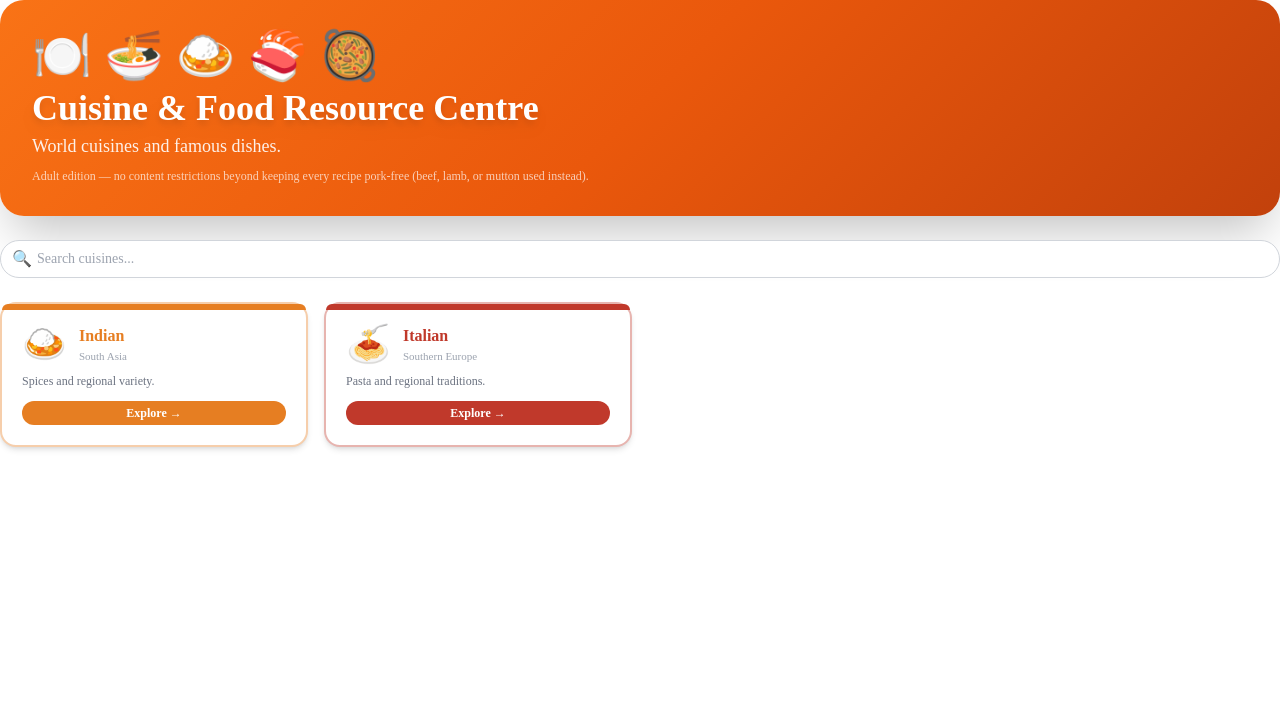
Test case: CuisineCentre › lets the quiz be answered and scored
Click the text "Indian" at (102, 336), box [79, 327, 124, 344]
(page scrolled)
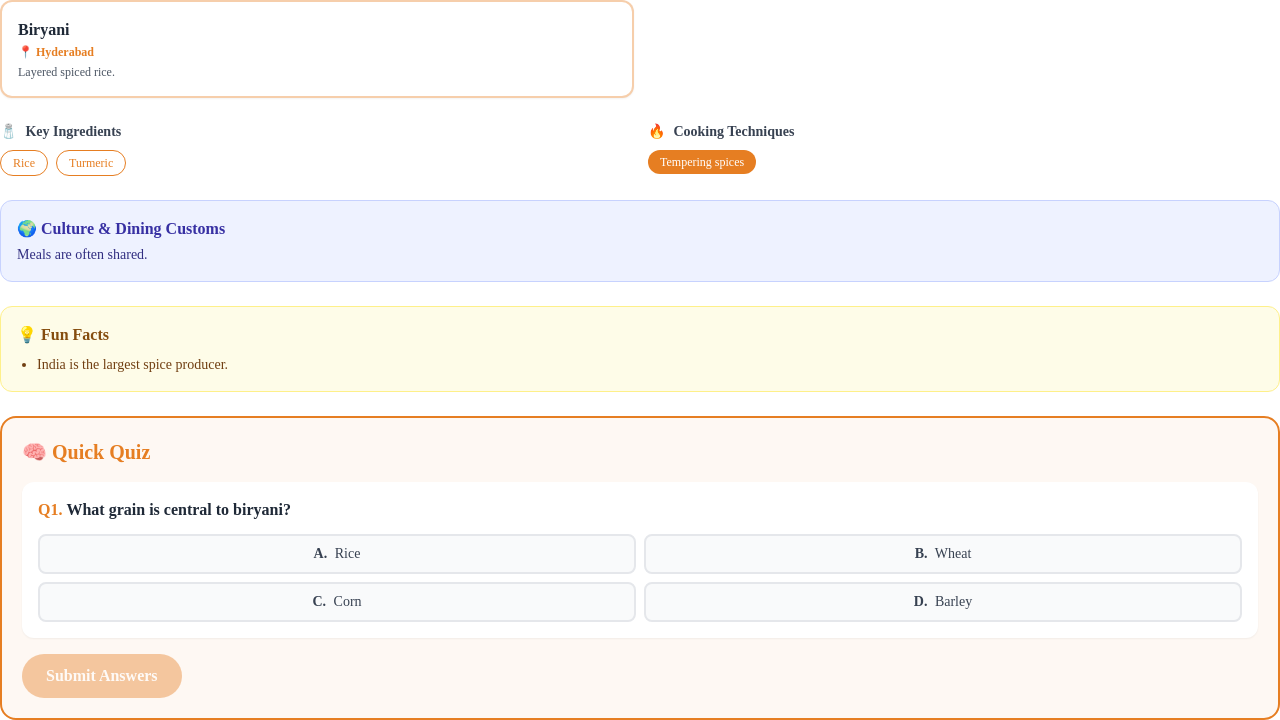
Expected: the text "Biryani" is shown, [18, 21, 70, 38]
Click the button "A. Rice" at (337, 554), box [38, 534, 636, 574]
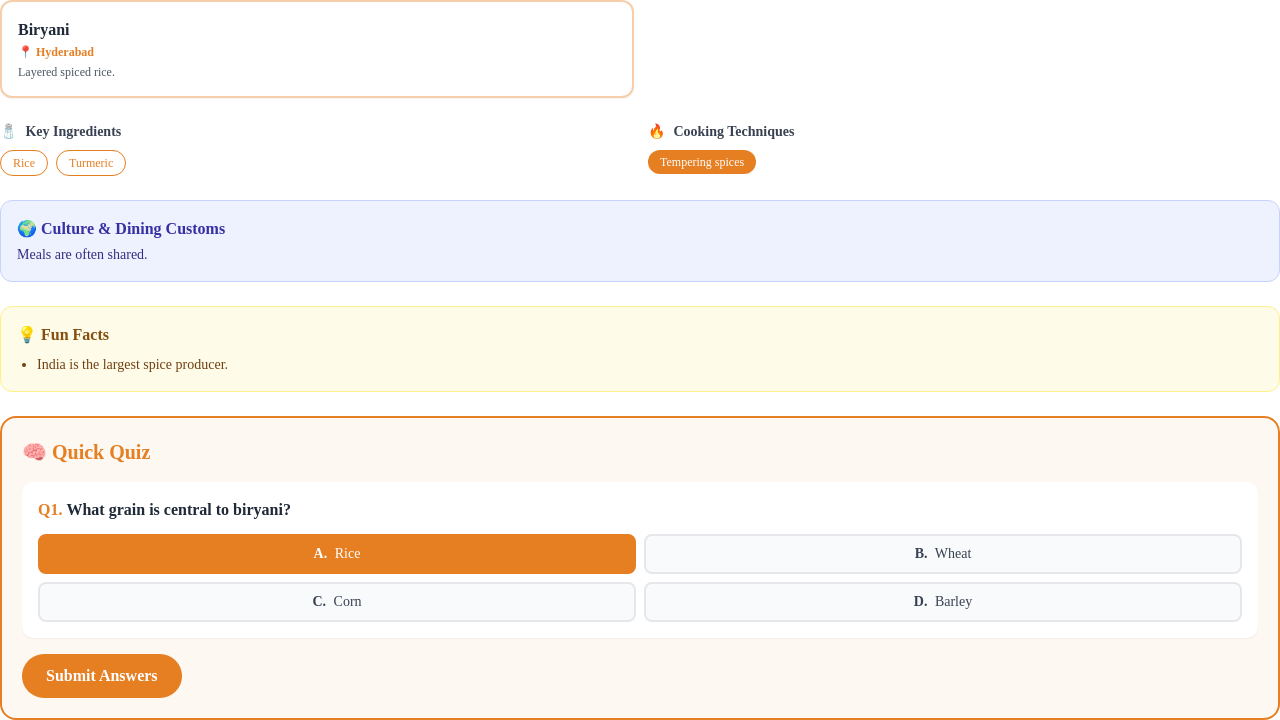
Click the button "Submit Answers" at (102, 676), box [22, 654, 182, 698]
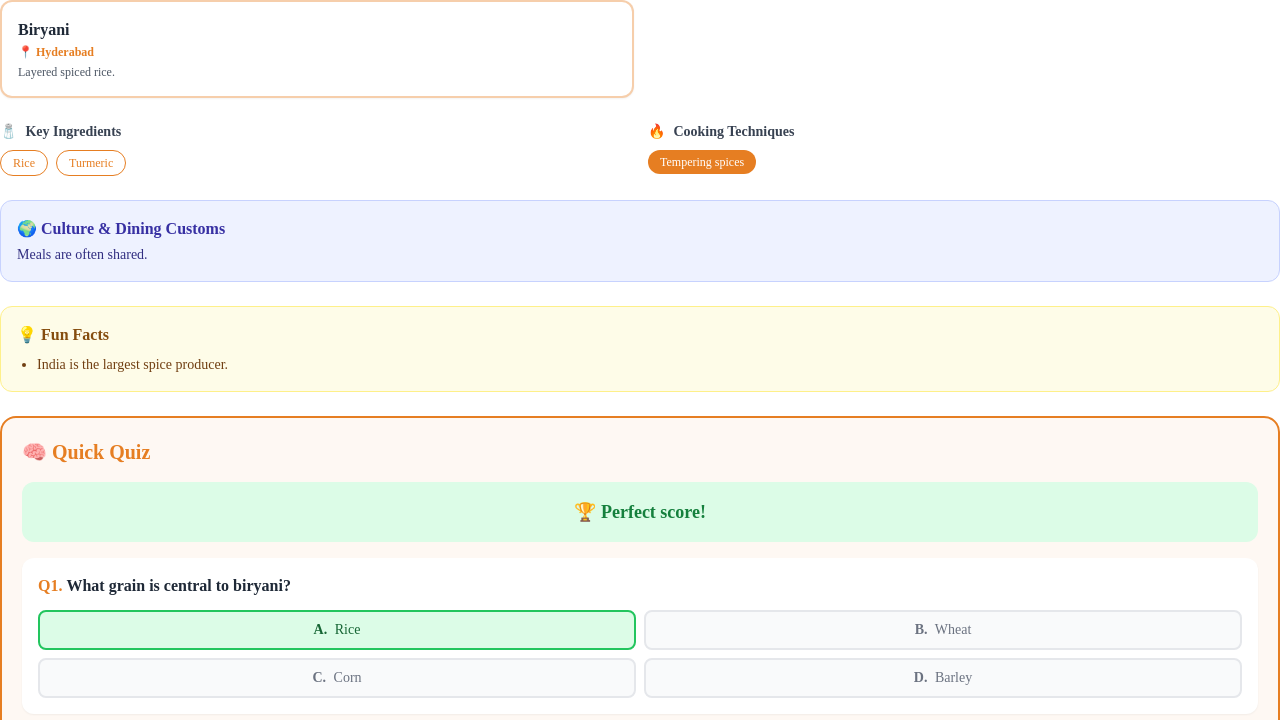
Expected: the text "🏆 Perfect score!" is shown, [22, 482, 1258, 542]
